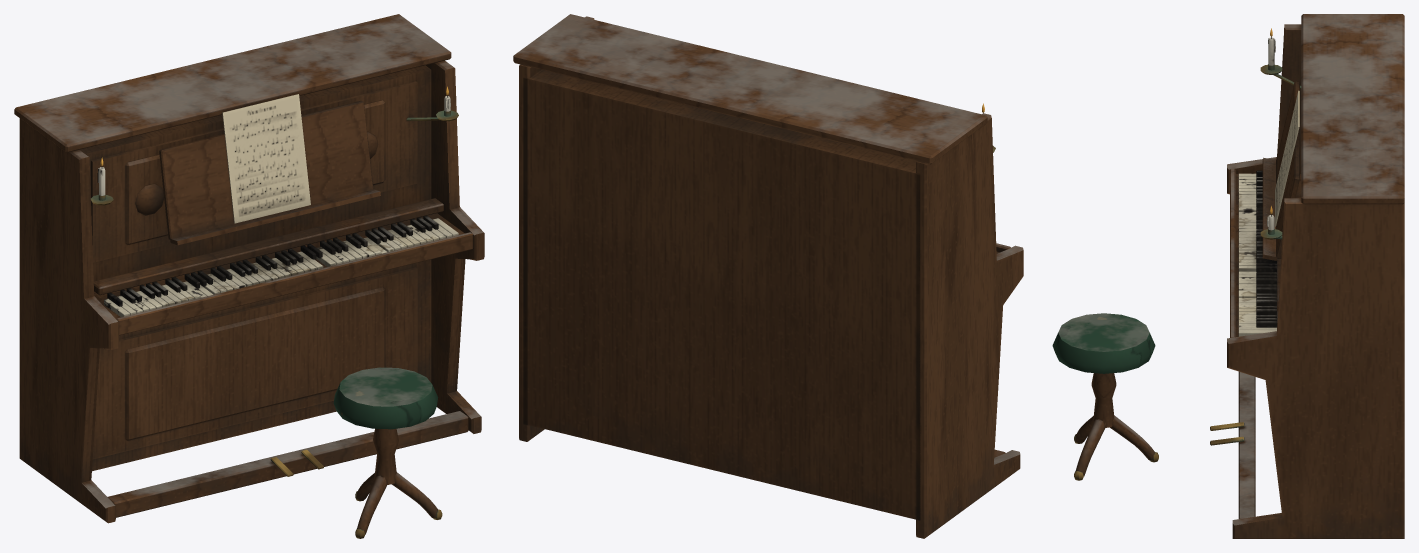
File: UprightPiano.fbx
3 renders of one model, left to right at view 1: azimuth 30°, elevation 25°; view 2: azimuth 150°, elevation 25°; view 3: azimuth 270°, elevation 25°, orthographic. The views are drawn at different scales.
Visible parts, largest first — view 1: Frame, Stool; view 2: Frame; view 3: Frame, Stool.
Part boxes in pixels (box(x1,y1,x2,y2)): Frame: box(14, 14, 484, 523); Stool: box(333, 367, 442, 538); Frame: box(513, 14, 1023, 538); Frame: box(1210, 14, 1404, 538); Stool: box(1052, 313, 1158, 480).
Size of the model in its own units: 4.56 by 3.99 by 3.69.
1 material, 1 textured.
